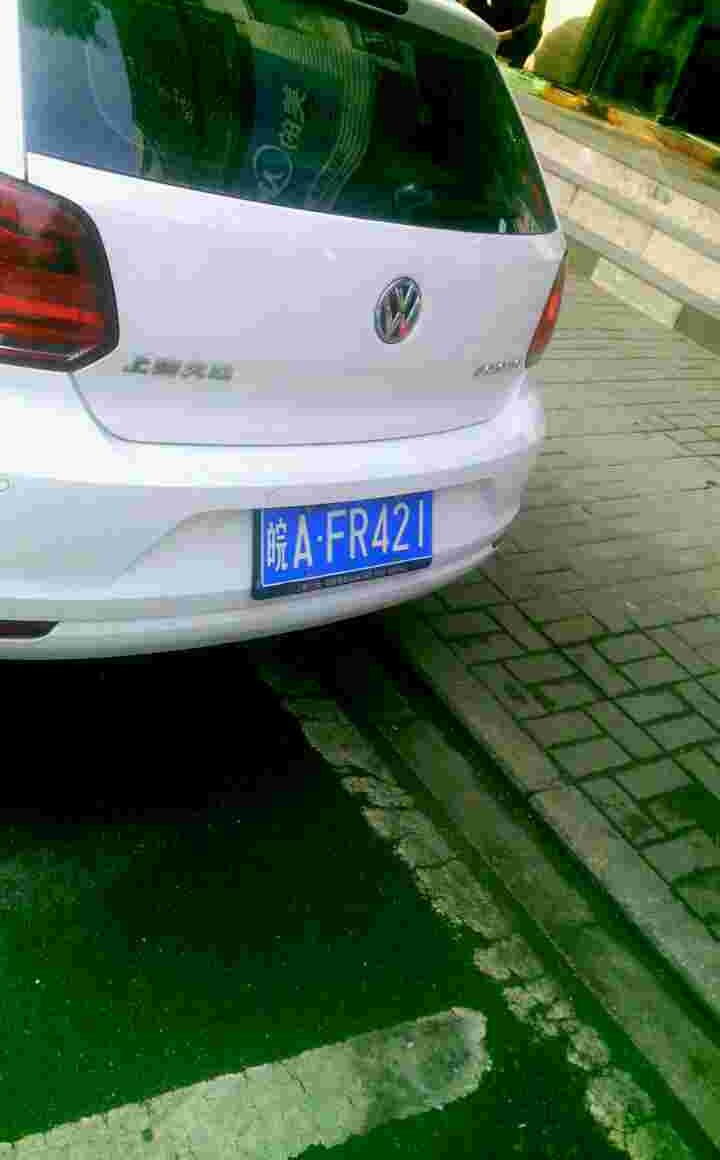license_plate: (257, 489, 435, 591)
